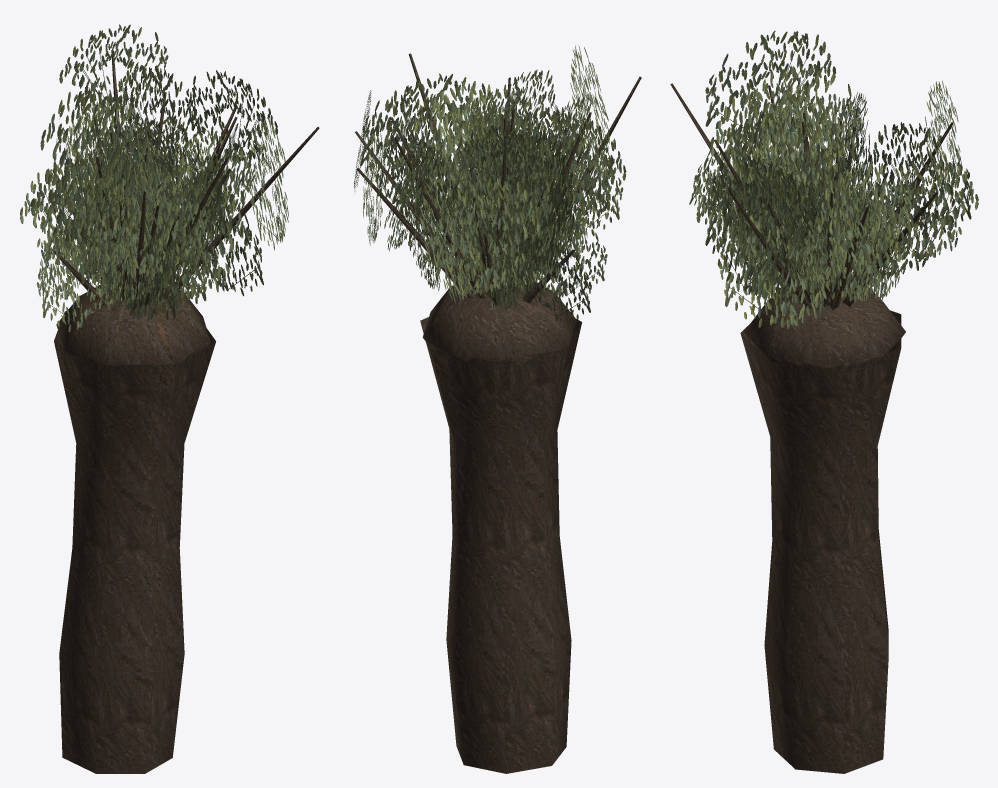
The model's file is tpl_pollards_meadow_pollard_cut_hi.glb.
The picture shows the model from 3 angles, left to right: view 1: azimuth 30°, elevation 25°; view 2: azimuth 150°, elevation 25°; view 3: azimuth 270°, elevation 25°; orthographic projection.
Parts seen in each view (by area): view 1: tpl_pollards_meadow_pollard_cut_hi; view 2: tpl_pollards_meadow_pollard_cut_hi; view 3: tpl_pollards_meadow_pollard_cut_hi.
Boxes of the visible parts, x1=… form: tpl_pollards_meadow_pollard_cut_hi: x1=20, y1=24, x2=319, y2=773; tpl_pollards_meadow_pollard_cut_hi: x1=354, y1=45, x2=641, y2=773; tpl_pollards_meadow_pollard_cut_hi: x1=670, y1=31, x2=978, y2=773.
Bounding box in the file's own units: 1.61 × 4.17 × 1.67.
Materials: 2 (2 with a texture image).
